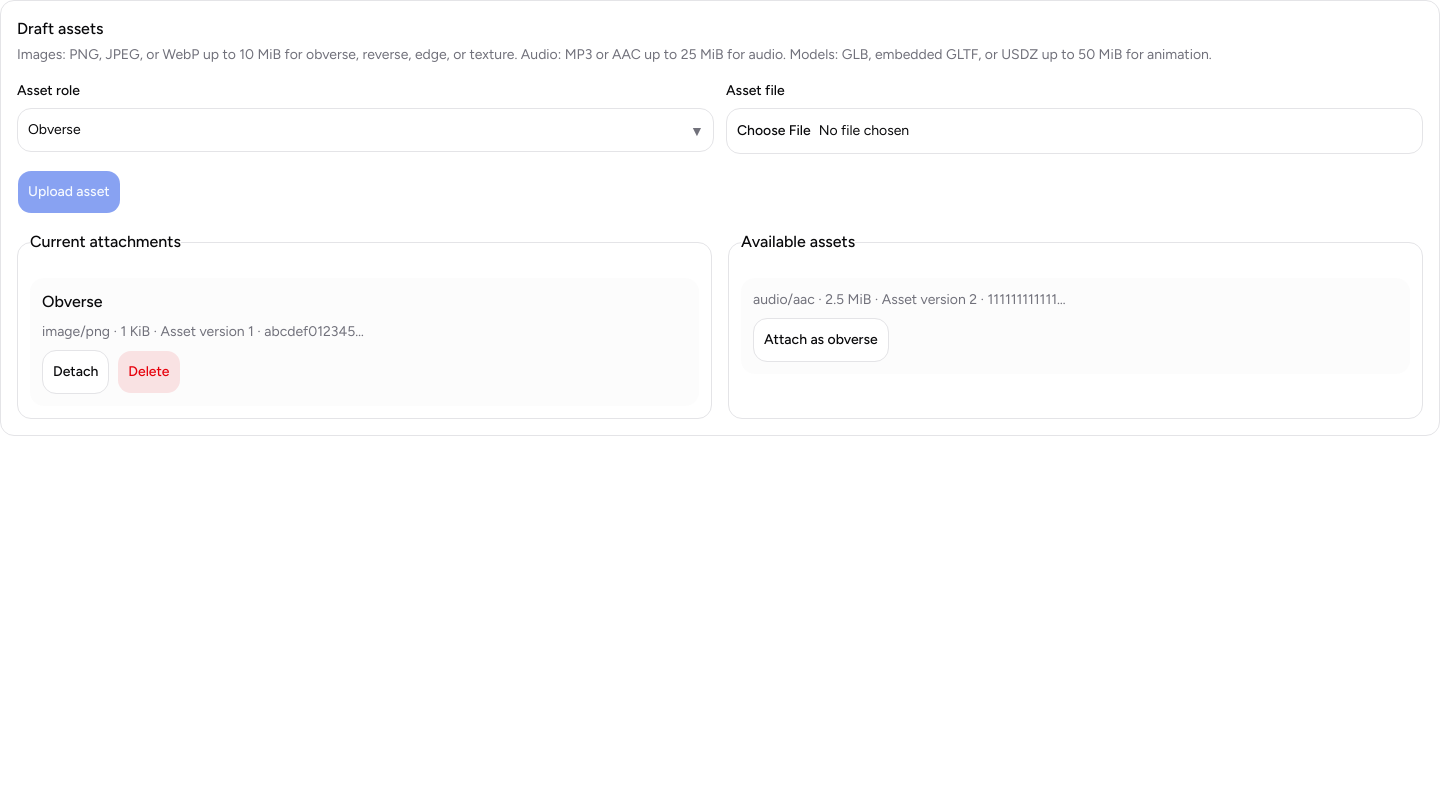
AssetAttachmentsEditor › requires explicit confirmation before detach and delete
Later steps or results of the test are not shown.
What coordinates should you click on to do the following:
click the button with aria-label "Detach obverse asset"
I would click on:
 (76, 372)
Its box is [42,350,109,394].
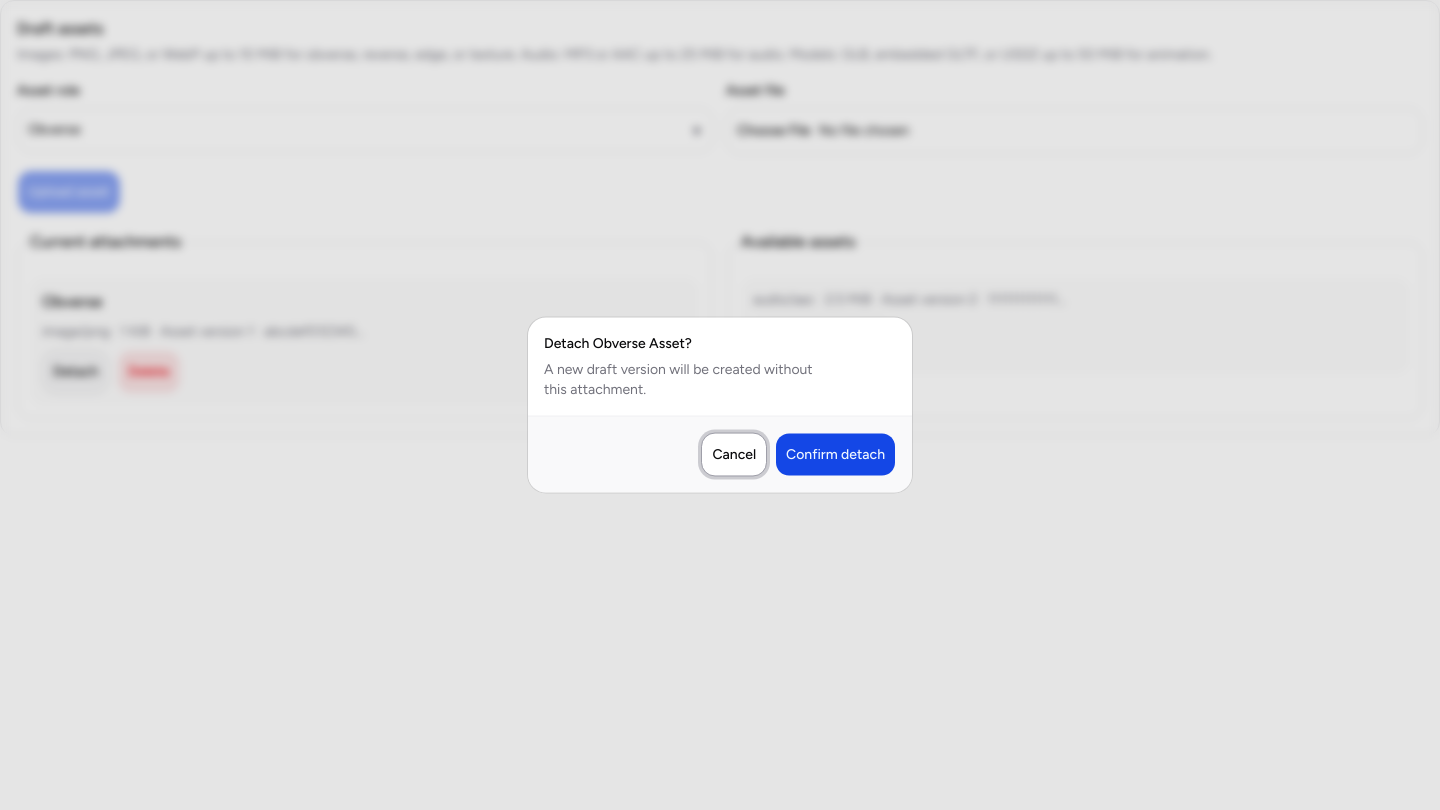
What coordinates should you click on to do the following:
click the button "Confirm detach"
I would click on:
 (836, 454)
Its box is [775,432,896,476].
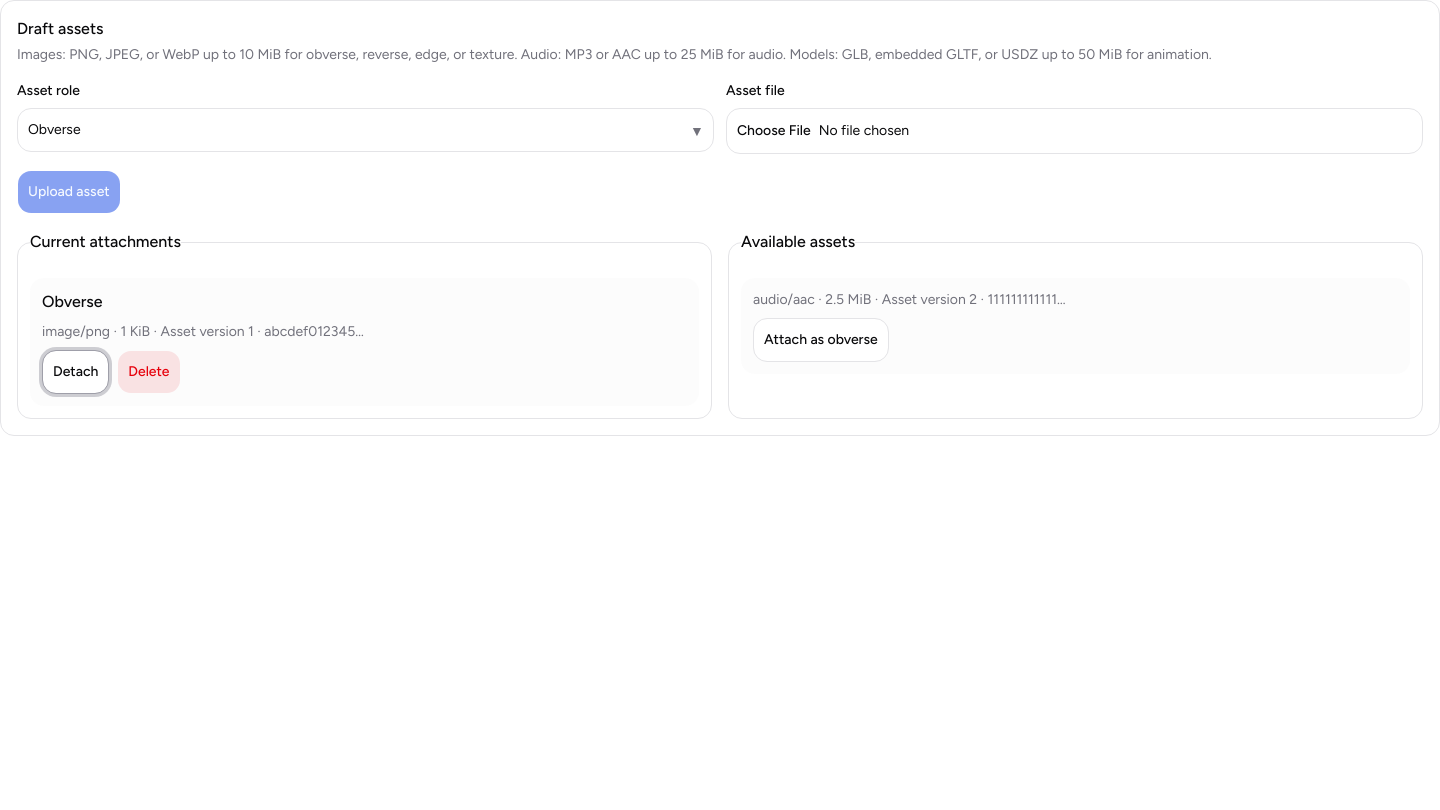
Check: the dialog is gone
